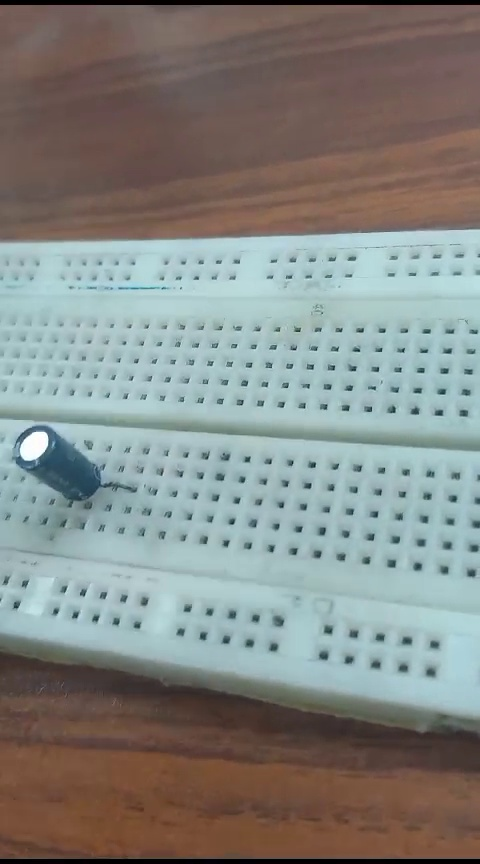capacitor: (12, 421, 118, 511)
